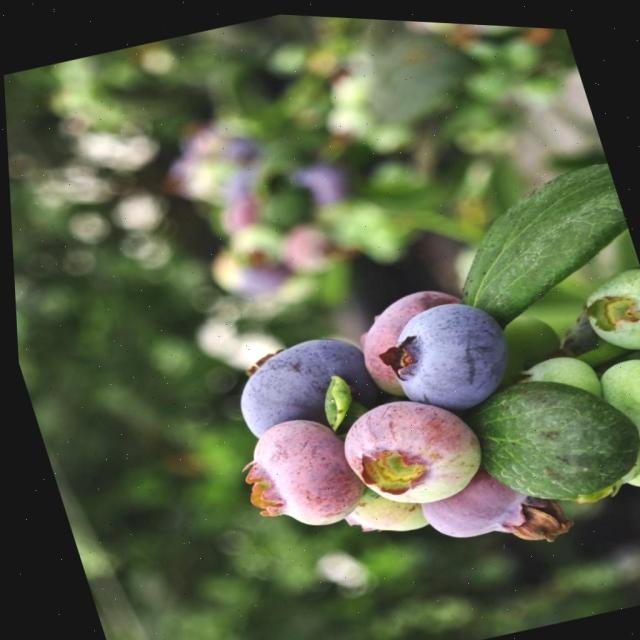RipeBlueBerry: (213, 314, 379, 448), (372, 284, 516, 414)
Semi-RipeBlueBerry: (326, 376, 489, 516), (226, 403, 368, 541)
